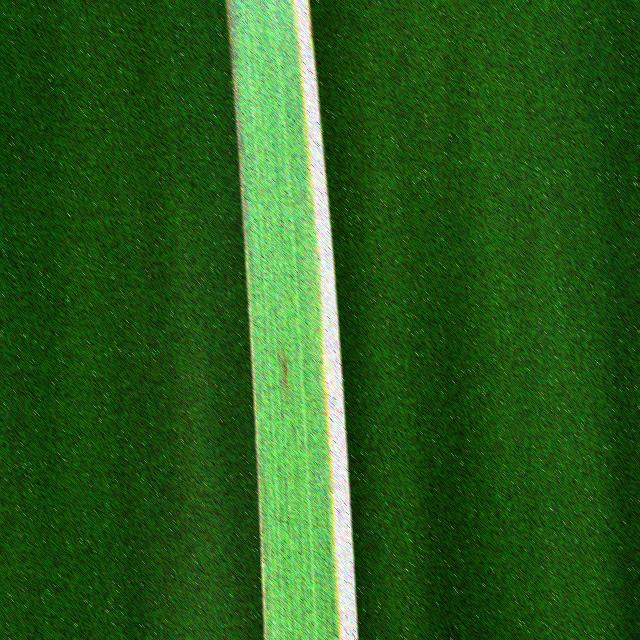BLB: (294, 1, 357, 640)
